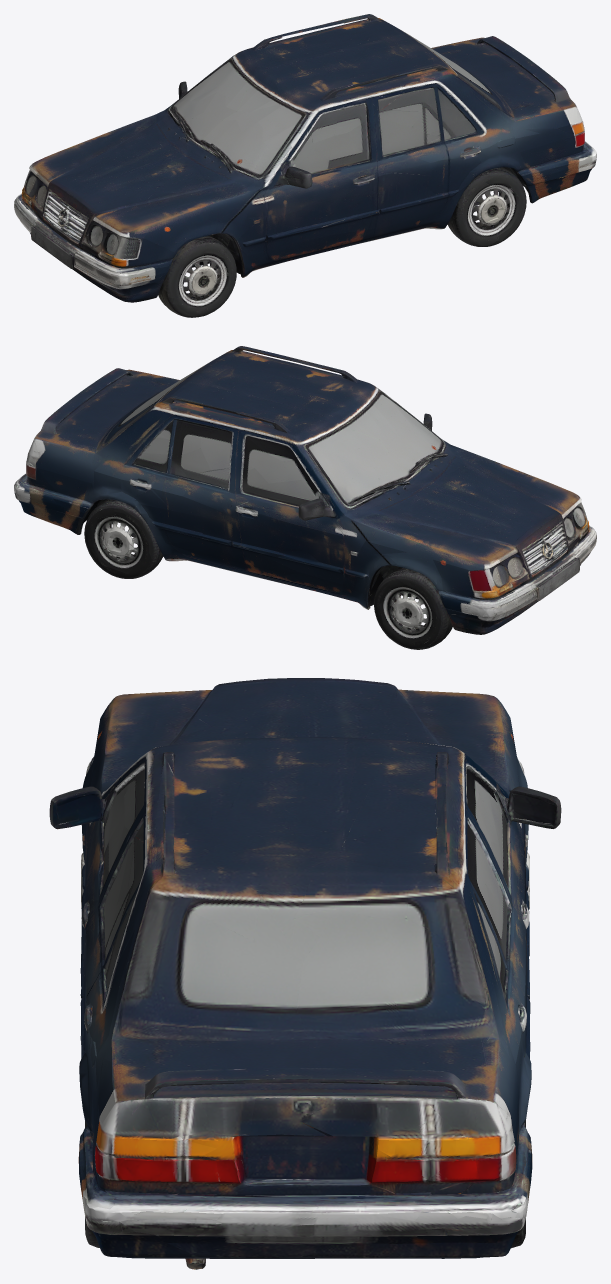
File: car.glb
3 renders of one model, top to bottom at view 1: azimuth 30°, elevation 25°; view 2: azimuth 150°, elevation 25°; view 3: azimuth 270°, elevation 25°, orthographic. The views are drawn at different scales.
Size of the model in its own units: 1.9 by 0.6493 by 0.8459.
Materials: 1 (1 with a texture image).
